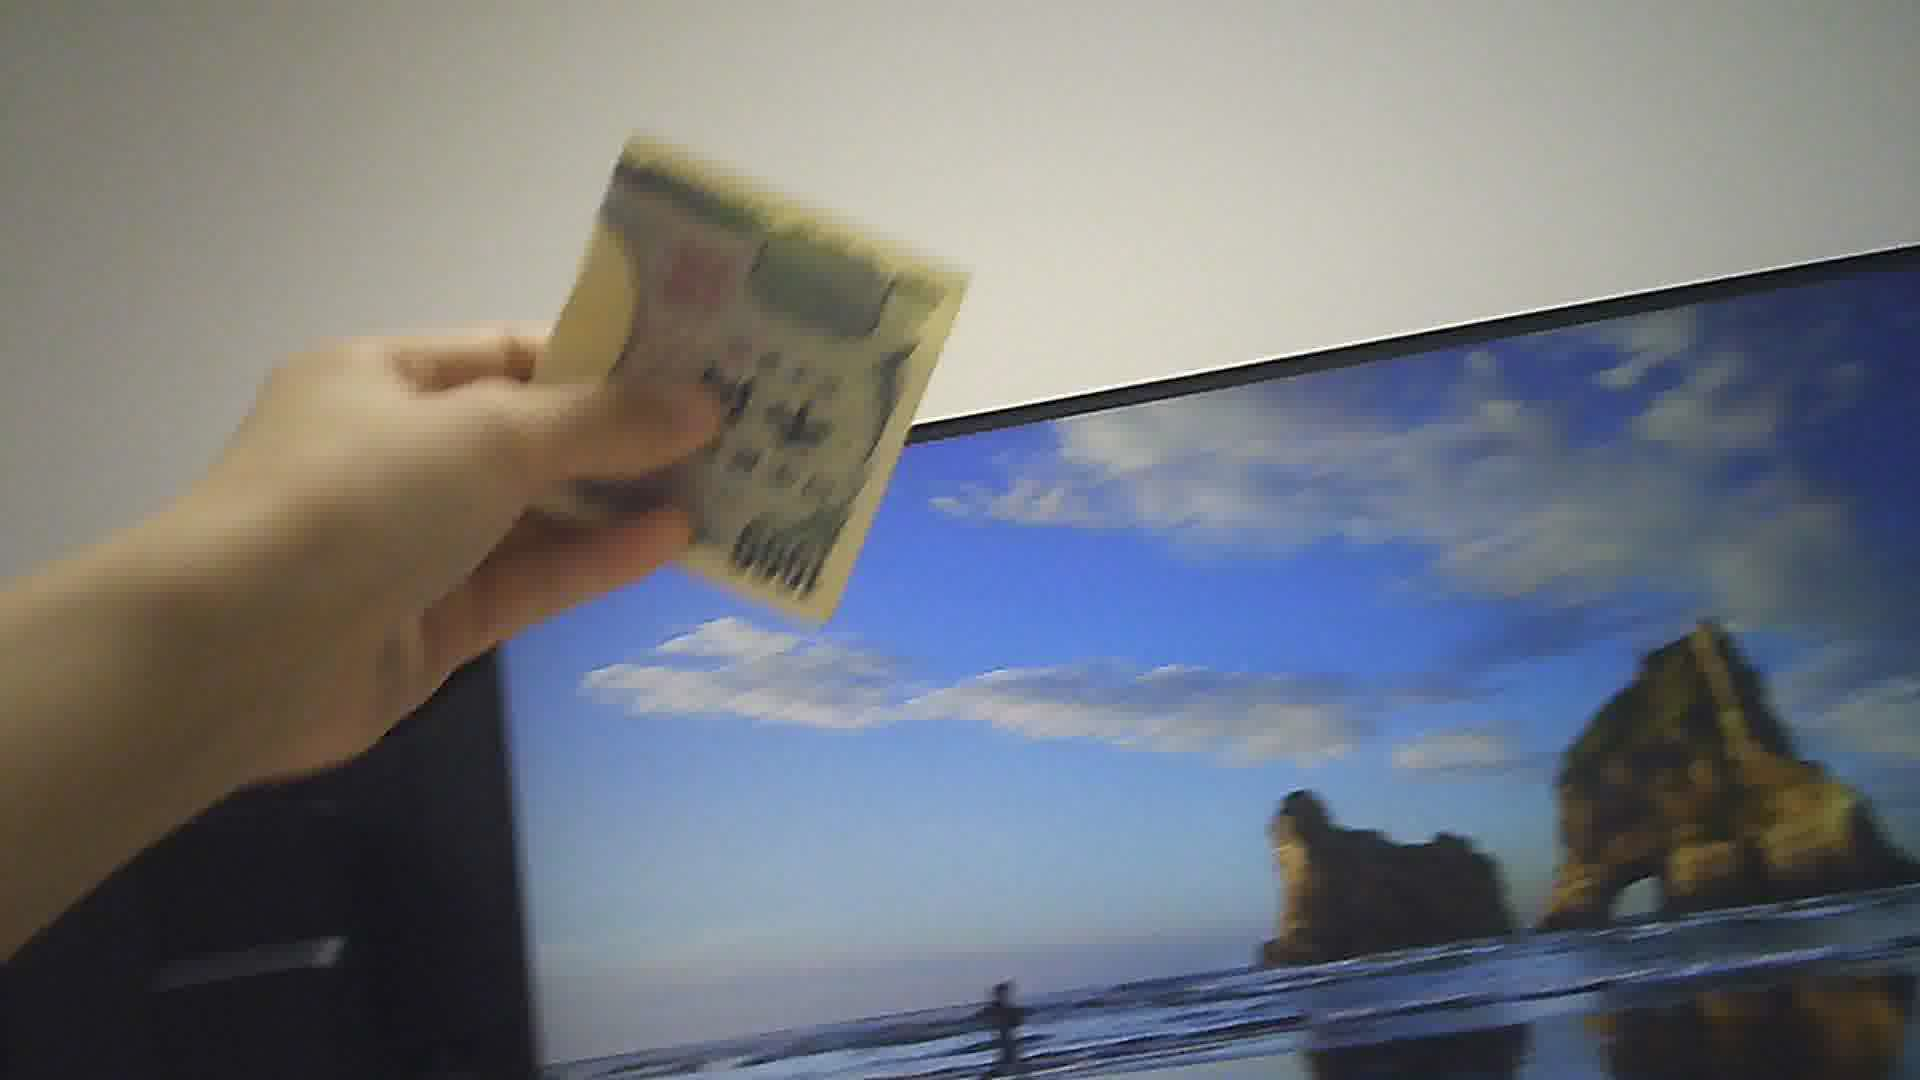1,000 Yen: (479, 117, 965, 616)
